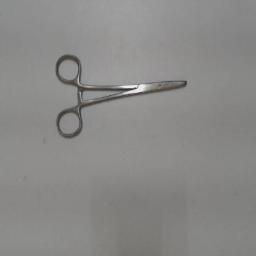Mayo Needle Holder: (51, 47, 193, 143)
